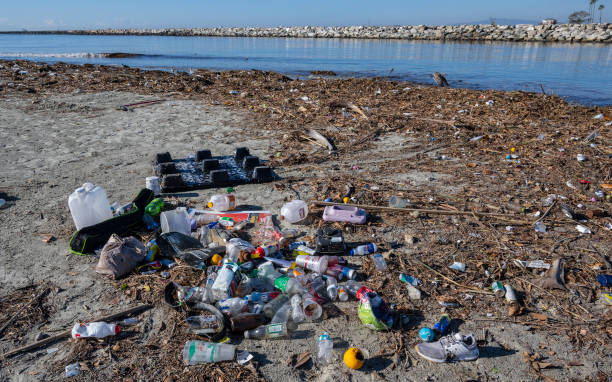General waste: (418, 334, 482, 357), (344, 348, 363, 365)
metal: (494, 278, 505, 299)
plastic: (184, 341, 237, 363), (315, 329, 336, 365)
